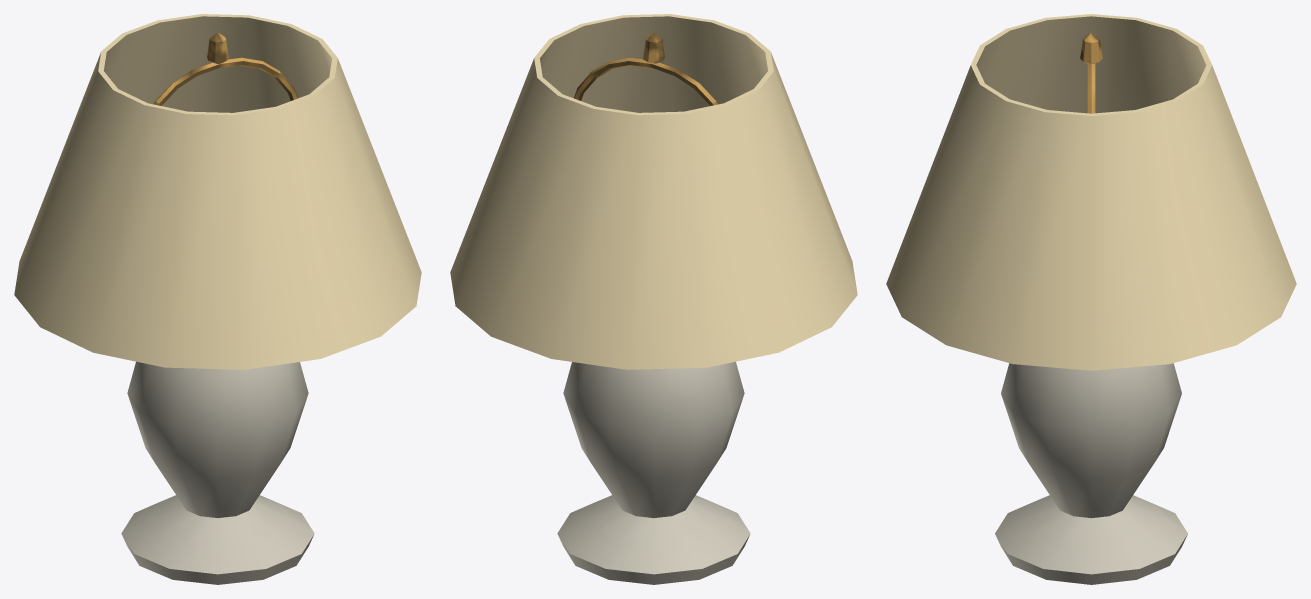
File: FX_TableLampSmall.fbx
The picture shows the model from 3 angles, left to right: view 1: azimuth 30°, elevation 25°; view 2: azimuth 150°, elevation 25°; view 3: azimuth 270°, elevation 25°; orthographic projection.
Visible parts, largest first — view 1: FX_TableLampSmall_Emissive, FX_TableLampSmall; view 2: FX_TableLampSmall_Emissive, FX_TableLampSmall; view 3: FX_TableLampSmall_Emissive, FX_TableLampSmall.
Boxes of the visible parts, bbox=[...] form: FX_TableLampSmall_Emissive: bbox=[14, 14, 421, 369]; FX_TableLampSmall: bbox=[121, 32, 314, 584]; FX_TableLampSmall_Emissive: bbox=[450, 14, 857, 369]; FX_TableLampSmall: bbox=[557, 32, 750, 584]; FX_TableLampSmall_Emissive: bbox=[886, 14, 1296, 370]; FX_TableLampSmall: bbox=[995, 33, 1187, 584].
Size of the model in its own units: 0.289 by 0.399 by 0.289.
